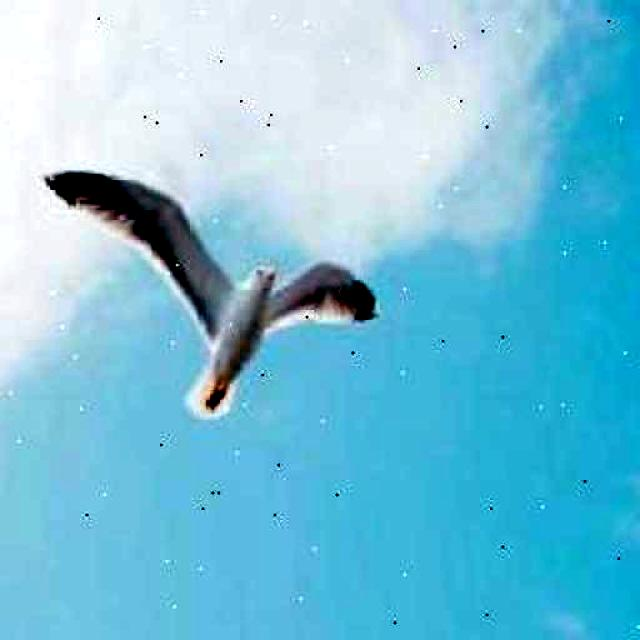airplane: (42, 146, 386, 432)
